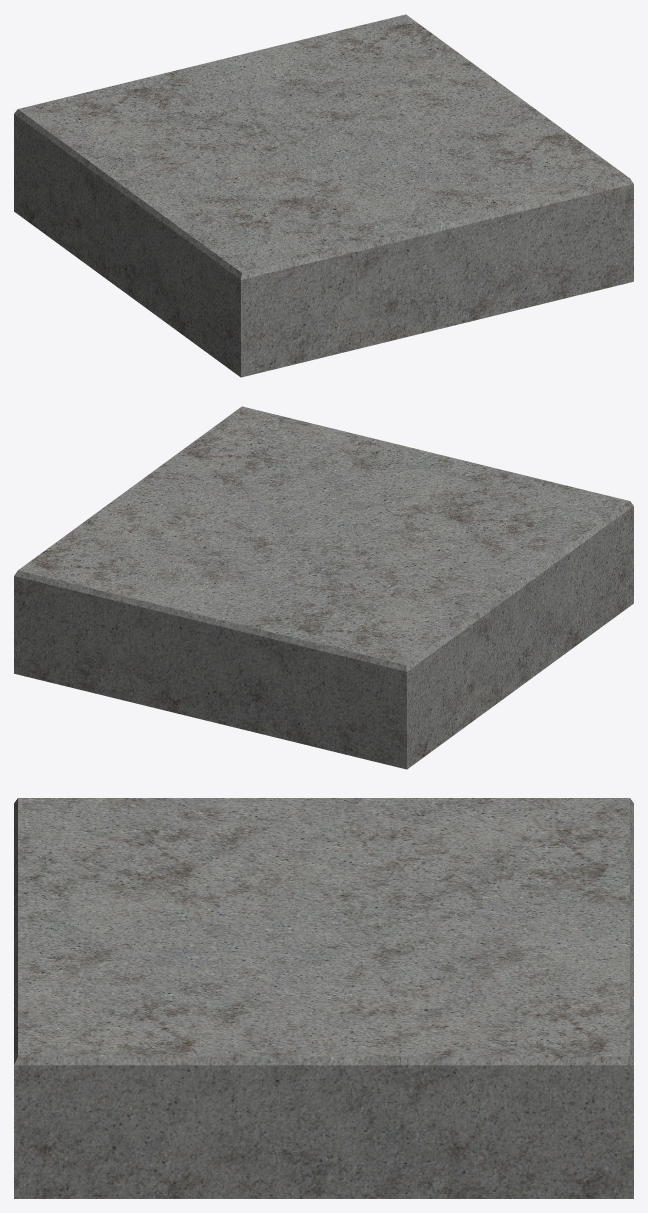
Rendered from Ground_outside.fbx.
3 renders of one model, top to bottom at view 1: azimuth 30°, elevation 25°; view 2: azimuth 150°, elevation 25°; view 3: azimuth 270°, elevation 25°, orthographic. The views are drawn at different scales.
Parts seen in each view (by area): view 1: floor_kitchen_small_styleB; view 2: floor_kitchen_small_styleB; view 3: floor_kitchen_small_styleB.
Part boxes in pixels (box(x1,y1,x2,y2)): floor_kitchen_small_styleB: box(14, 14, 633, 377); floor_kitchen_small_styleB: box(14, 406, 633, 769); floor_kitchen_small_styleB: box(14, 798, 633, 1198).
Bounding box in the file's own units: 200 × 50 × 200.
Materials: 1 (1 with a texture image).
